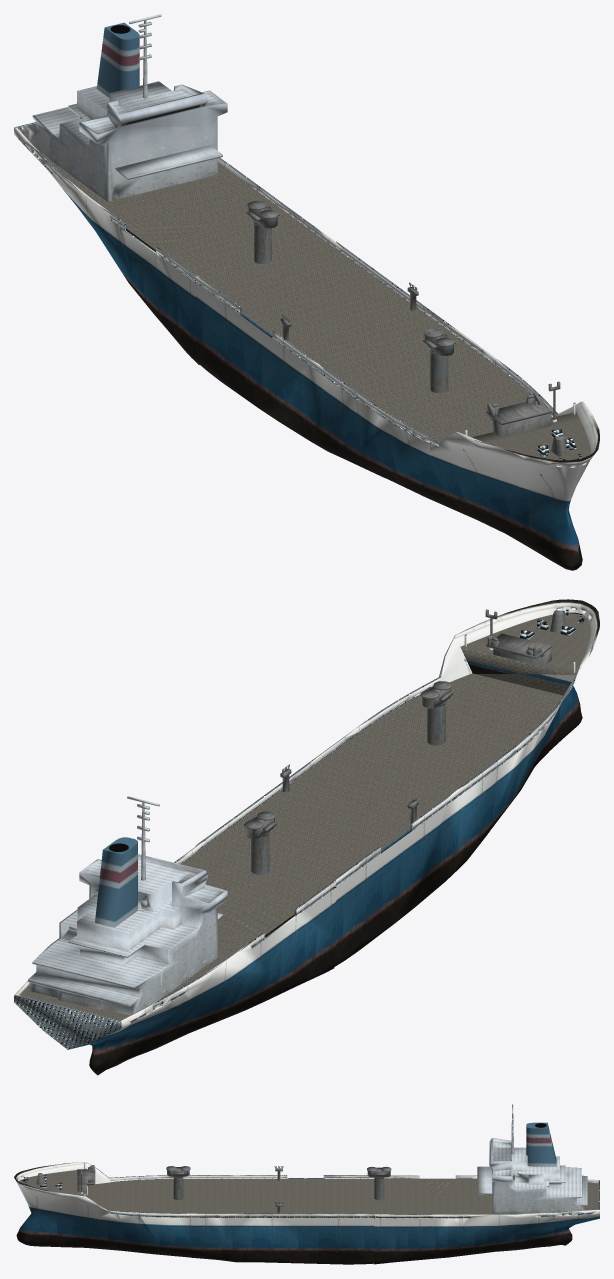
Rendered from BoatExpo.obj.
The picture shows the model from 3 angles, top to bottom: view 1: azimuth 30°, elevation 25°; view 2: azimuth 150°, elevation 25°; view 3: azimuth 270°, elevation 25°; orthographic projection. The views are drawn at different scales.
Parts seen in each view (by area): view 1: Mesh119 Floor Cargo_Ship_obj Model, Mesh73 Hull Cargo_Ship_obj Model, Mesh59 Bridge Cargo_Ship_obj Model, Mesh78 Hull Cargo_Ship_obj Model, Mesh79 Hull Cargo_Ship_obj Model, Mesh122 Floor Cargo_Ship_obj Model, Mesh71 Smoke Cargo_Ship_obj Model, Mesh32 Misc Cargo_Ship_obj Model, Mesh62 Bridge Cargo_Ship_obj Model, Mesh4 Misc Cargo_Ship_obj Model; view 2: Mesh119 Floor Cargo_Ship_obj Model, Mesh59 Bridge Cargo_Ship_obj Model, Mesh79 Hull Cargo_Ship_obj Model, Mesh78 Hull Cargo_Ship_obj Model, Mesh73 Hull Cargo_Ship_obj Model, Mesh122 Floor Cargo_Ship_obj Model, Mesh71 Smoke Cargo_Ship_obj Model, Mesh32 Misc Cargo_Ship_obj Model, Mesh121 Floor Cargo_Ship_obj Model, Mesh4 Misc Cargo_Ship_obj Model, Mesh29 Misc Cargo_Ship_obj Model; view 3: Mesh119 Floor Cargo_Ship_obj Model, Mesh78 Hull Cargo_Ship_obj Model, Mesh73 Hull Cargo_Ship_obj Model, Mesh79 Hull Cargo_Ship_obj Model, Mesh59 Bridge Cargo_Ship_obj Model, Mesh71 Smoke Cargo_Ship_obj Model, Mesh122 Floor Cargo_Ship_obj Model, Mesh62 Bridge Cargo_Ship_obj Model, Mesh32 Misc Cargo_Ship_obj Model, Mesh4 Misc Cargo_Ship_obj Model, Mesh29 Misc Cargo_Ship_obj Model.
Part boxes in pixels (bbox=[...]): Mesh119 Floor Cargo_Ship_obj Model: bbox=[21, 129, 530, 441]; Mesh73 Hull Cargo_Ship_obj Model: bbox=[351, 351, 599, 570]; Mesh59 Bridge Cargo_Ship_obj Model: bbox=[27, 81, 227, 201]; Mesh78 Hull Cargo_Ship_obj Model: bbox=[194, 241, 496, 478]; Mesh79 Hull Cargo_Ship_obj Model: bbox=[14, 122, 343, 364]; Mesh122 Floor Cargo_Ship_obj Model: bbox=[472, 412, 590, 466]; Mesh71 Smoke Cargo_Ship_obj Model: bbox=[96, 28, 139, 97]; Mesh32 Misc Cargo_Ship_obj Model: bbox=[486, 402, 551, 437]; Mesh62 Bridge Cargo_Ship_obj Model: bbox=[115, 145, 222, 179]; Mesh4 Misc Cargo_Ship_obj Model: bbox=[430, 349, 448, 393]; Mesh119 Floor Cargo_Ship_obj Model: bbox=[21, 673, 563, 1020]; Mesh59 Bridge Cargo_Ship_obj Model: bbox=[28, 854, 227, 1015]; Mesh79 Hull Cargo_Ship_obj Model: bbox=[14, 840, 336, 1075]; Mesh78 Hull Cargo_Ship_obj Model: bbox=[195, 730, 503, 966]; Mesh73 Hull Cargo_Ship_obj Model: bbox=[347, 599, 599, 841]; Mesh122 Floor Cargo_Ship_obj Model: bbox=[460, 613, 590, 675]; Mesh71 Smoke Cargo_Ship_obj Model: bbox=[95, 842, 137, 927]; Mesh32 Misc Cargo_Ship_obj Model: bbox=[486, 633, 551, 666]; Mesh121 Floor Cargo_Ship_obj Model: bbox=[476, 673, 569, 695]; Mesh4 Misc Cargo_Ship_obj Model: bbox=[427, 701, 445, 745]; Mesh29 Misc Cargo_Ship_obj Model: bbox=[251, 832, 269, 874]; Mesh119 Floor Cargo_Ship_obj Model: bbox=[87, 1178, 598, 1216]; Mesh78 Hull Cargo_Ship_obj Model: bbox=[184, 1175, 375, 1264]; Mesh73 Hull Cargo_Ship_obj Model: bbox=[14, 1162, 214, 1259]; Mesh79 Hull Cargo_Ship_obj Model: bbox=[374, 1175, 599, 1264]; Mesh59 Bridge Cargo_Ship_obj Model: bbox=[489, 1138, 587, 1214]; Mesh71 Smoke Cargo_Ship_obj Model: bbox=[526, 1123, 556, 1166]; Mesh122 Floor Cargo_Ship_obj Model: bbox=[19, 1169, 86, 1196]; Mesh62 Bridge Cargo_Ship_obj Model: bbox=[477, 1166, 492, 1194]; Mesh32 Misc Cargo_Ship_obj Model: bbox=[77, 1169, 95, 1191]; Mesh4 Misc Cargo_Ship_obj Model: bbox=[173, 1176, 183, 1200]; Mesh29 Misc Cargo_Ship_obj Model: bbox=[374, 1177, 384, 1200].
Bounding box in the file's own units: 1.22 × 2.01 × 7.71.
Materials: 7 (7 with a texture image).
